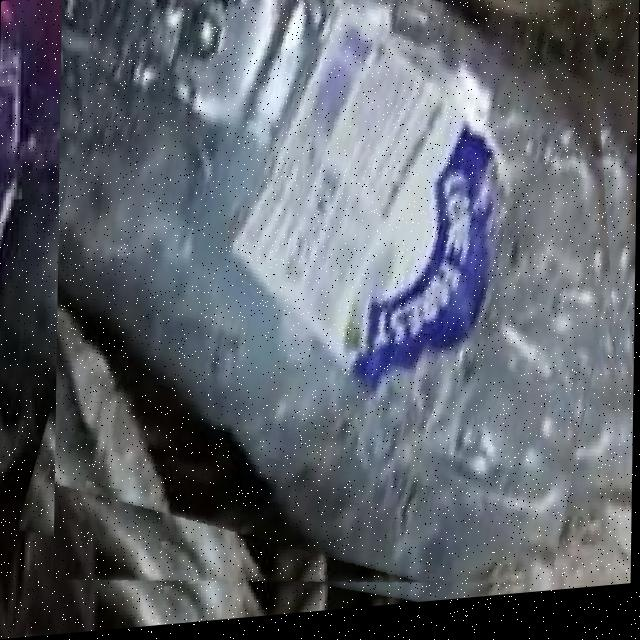litter: (54, 0, 640, 636)
